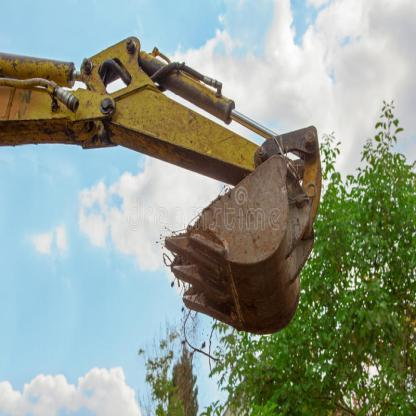excavator: (2, 13, 326, 338)
